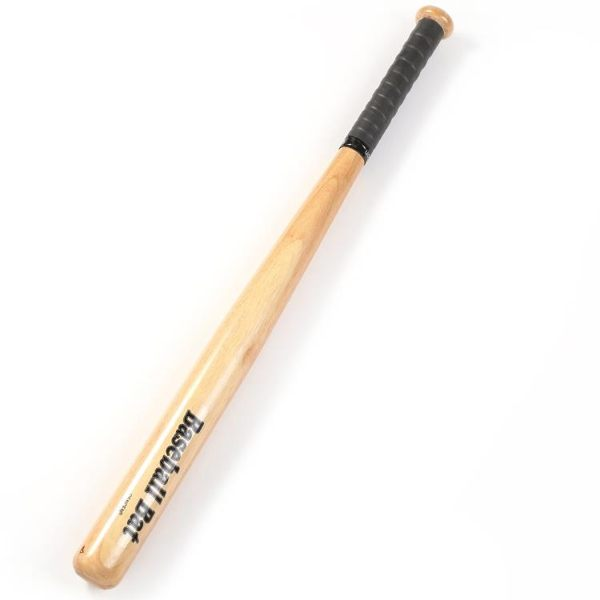straight_bar: (31, 1, 484, 594)
